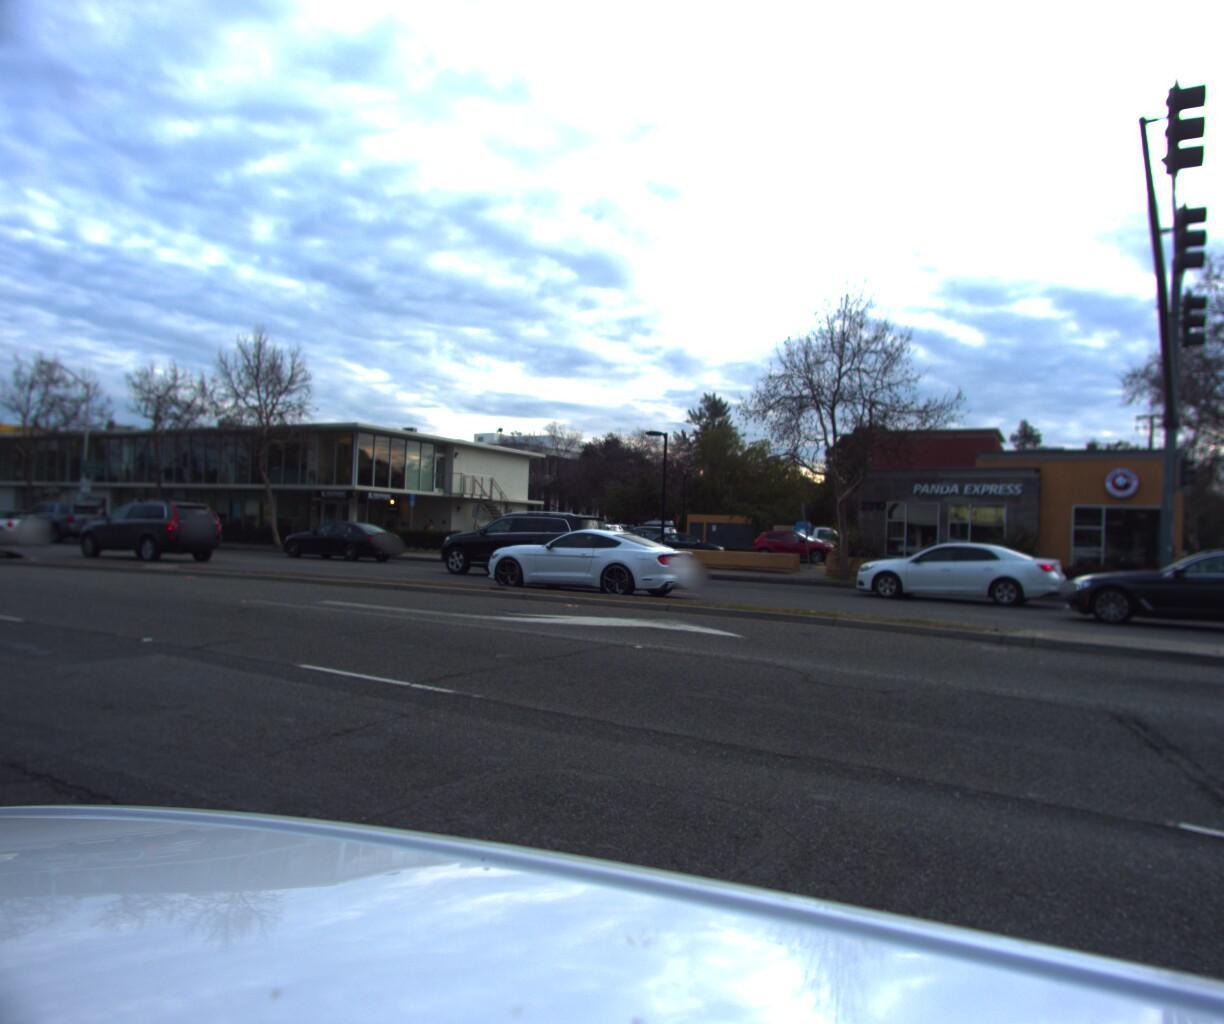car: (1049, 526, 1224, 644), (470, 522, 707, 605), (848, 536, 1074, 608), (432, 508, 625, 585), (69, 500, 226, 567), (483, 518, 635, 581), (278, 518, 406, 563), (9, 502, 113, 547), (0, 508, 50, 549)
